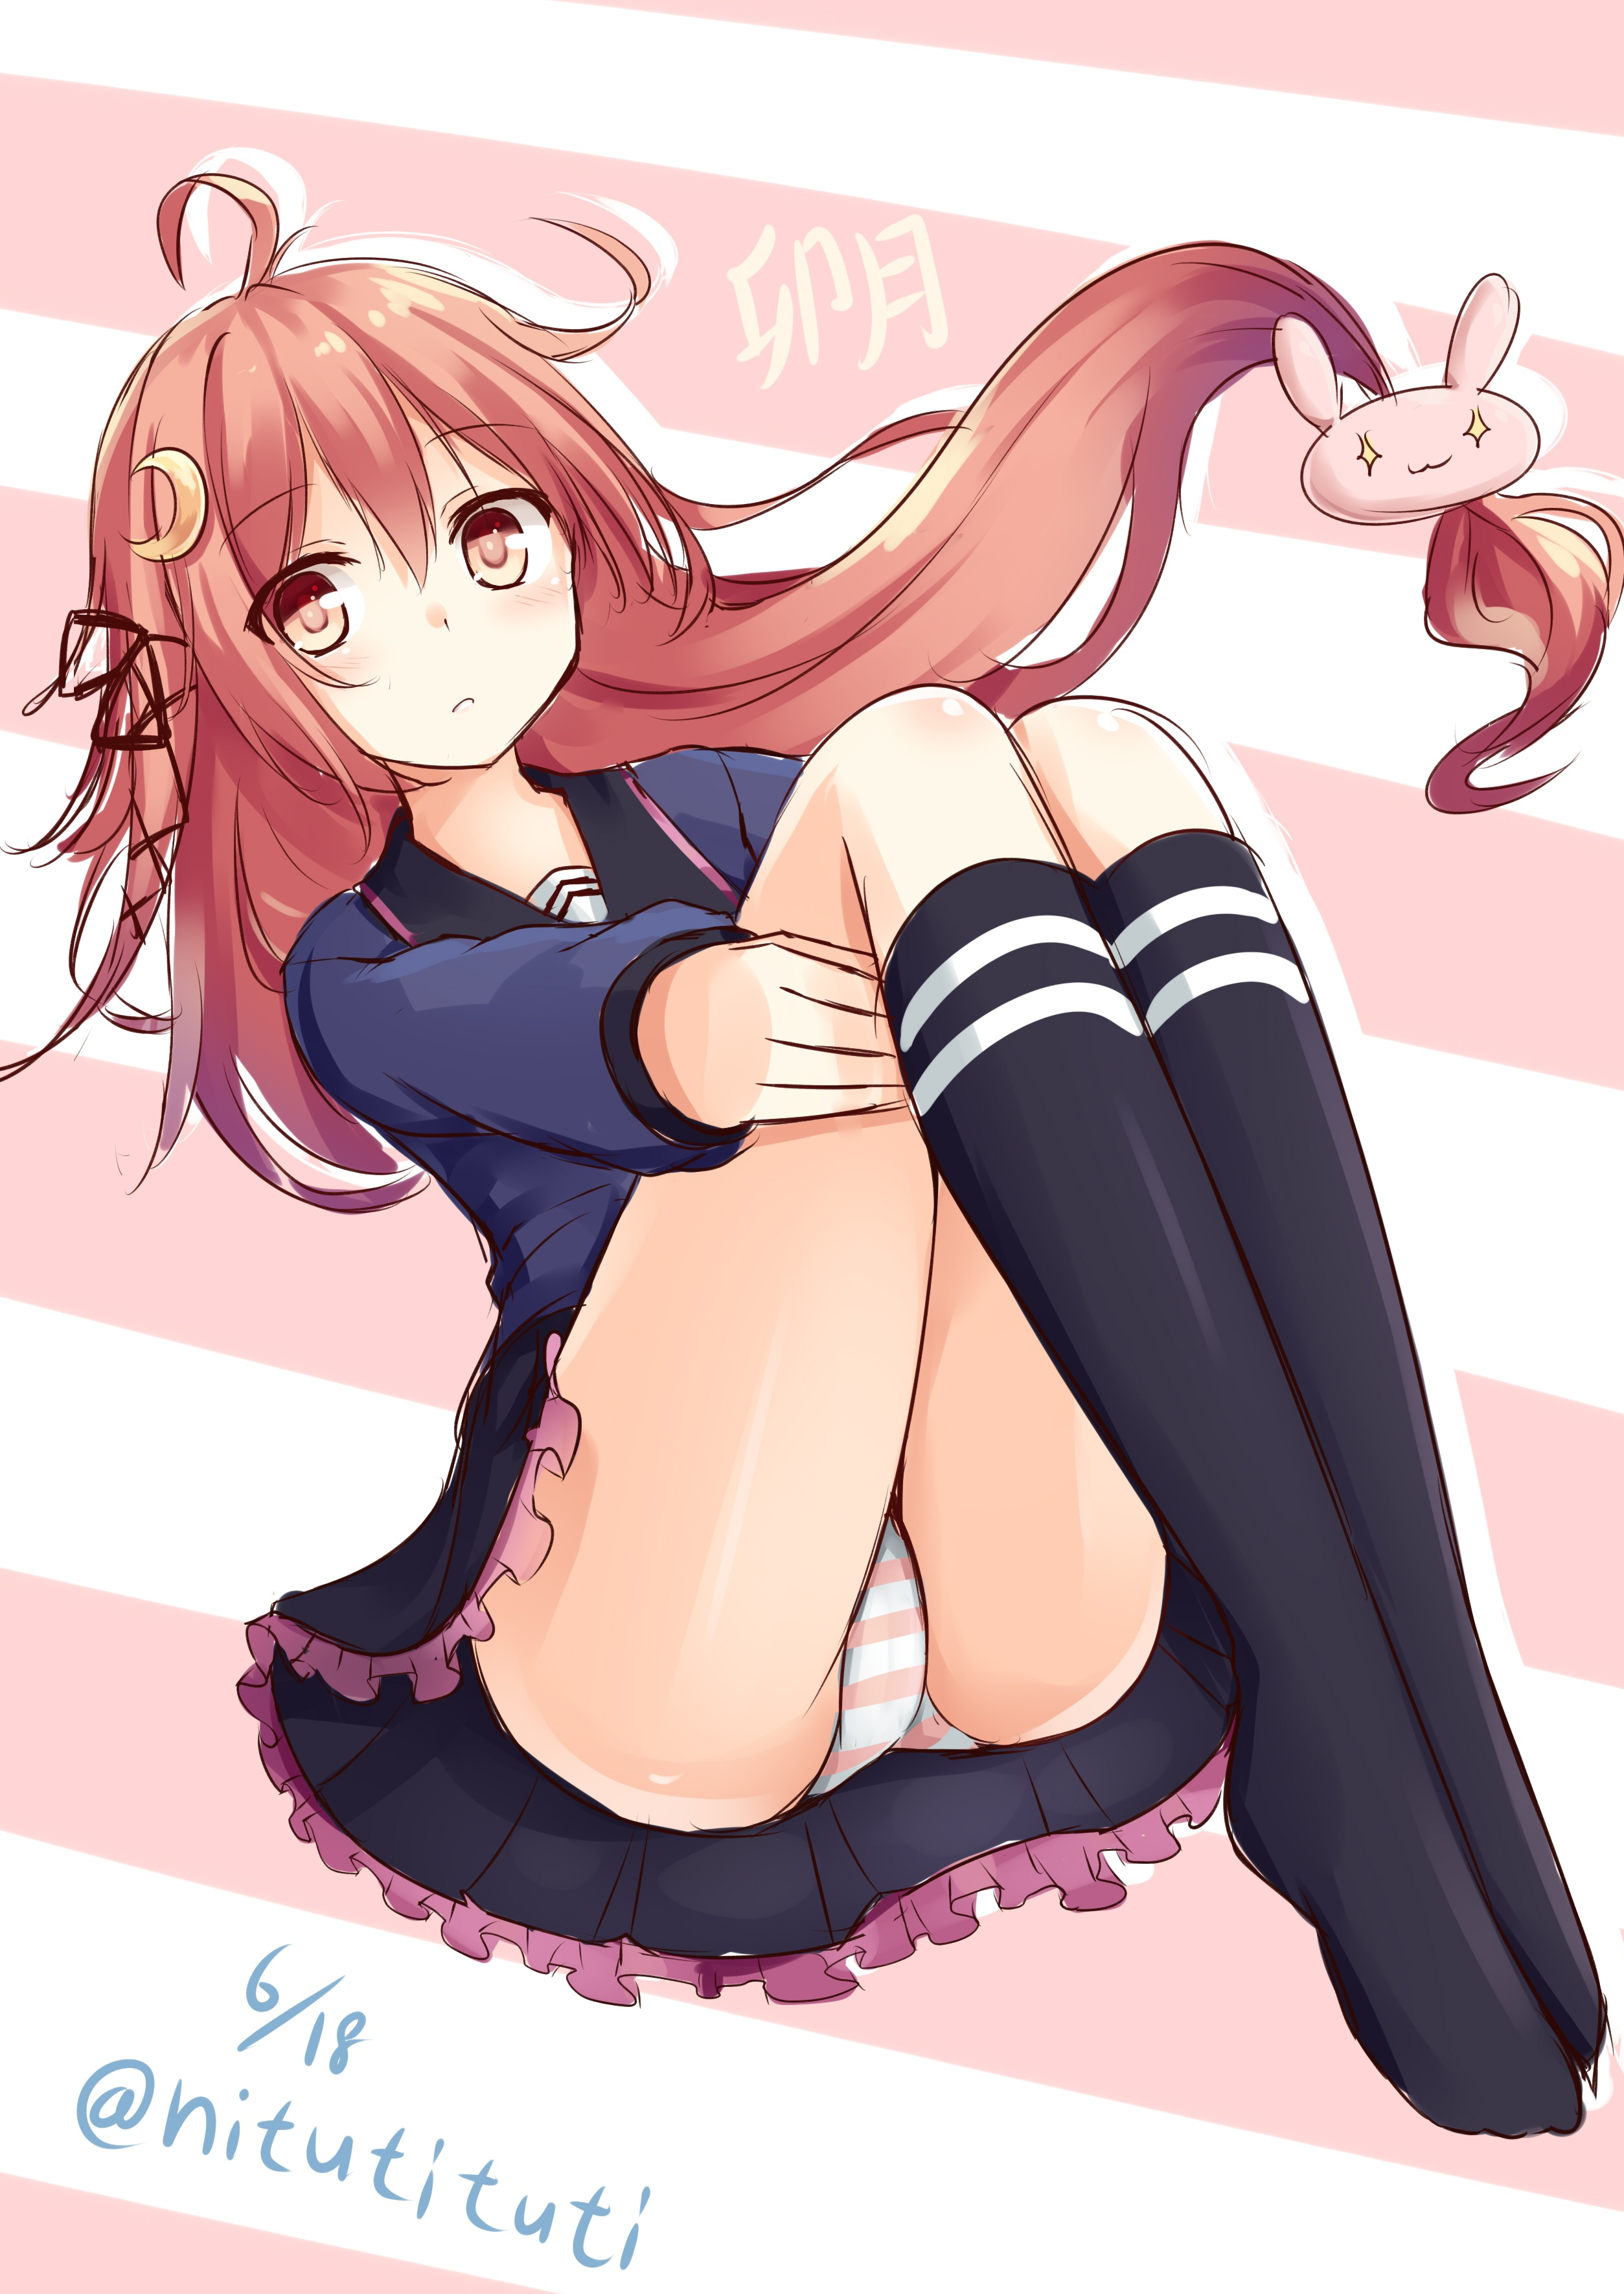纸片人正脸: (88, 187, 675, 811)
